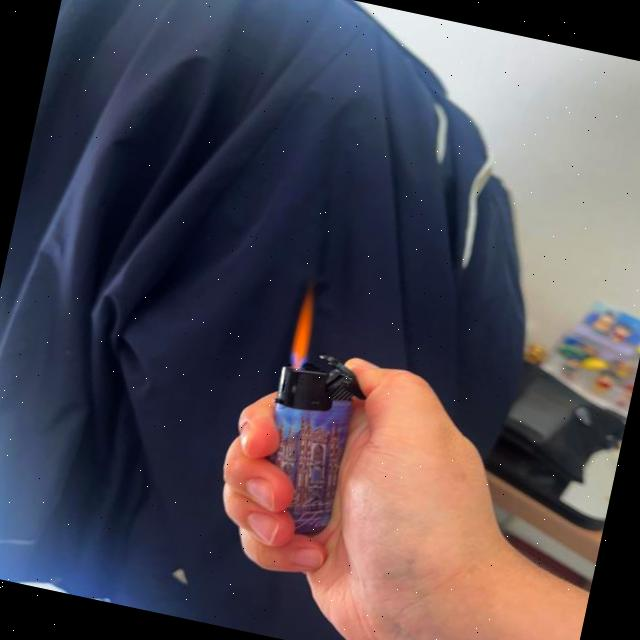fire: (286, 290, 322, 366)
